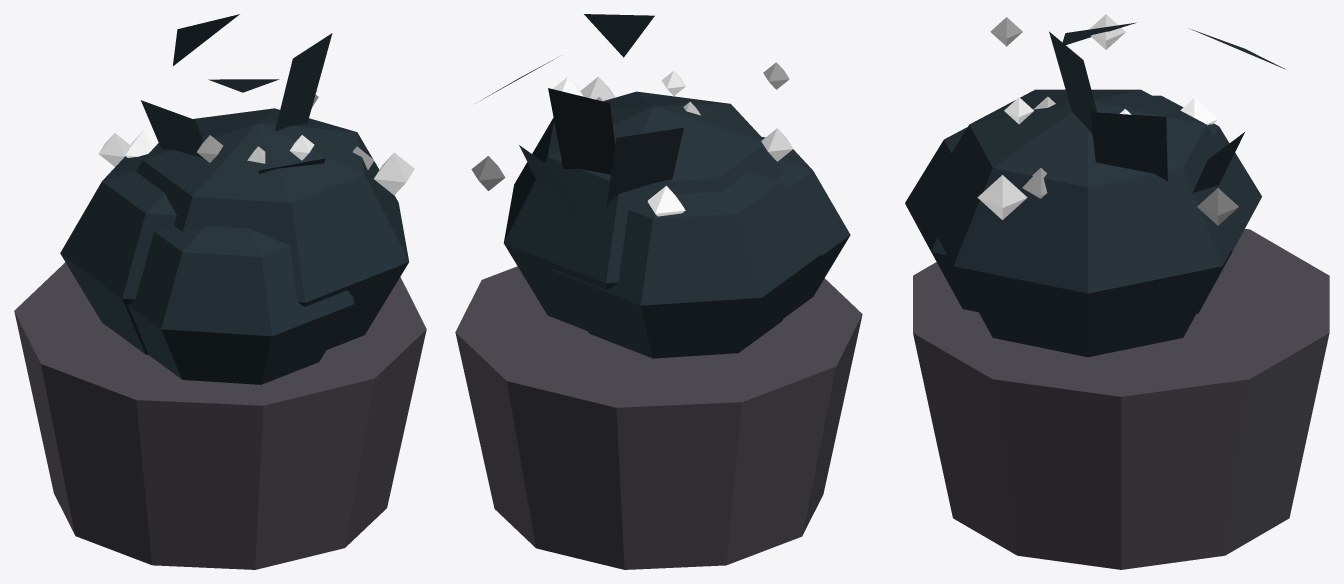
The model's file is planter_round.glb.
3 renders of one model, left to right at view 1: azimuth 30°, elevation 25°; view 2: azimuth 150°, elevation 25°; view 3: azimuth 270°, elevation 25°, orthographic. The views are drawn at different scales.
Visible parts, largest first — view 1: planter_round; view 2: planter_round; view 3: planter_round.
Boxes of the visible parts, x1,y1,x2,y2 form: planter_round: (14, 14, 426, 569); planter_round: (455, 14, 862, 569); planter_round: (905, 14, 1329, 569).
Size of the model in its own units: 1.08 by 1.27 by 1.04.
Materials: 3 (1 with a texture image).
